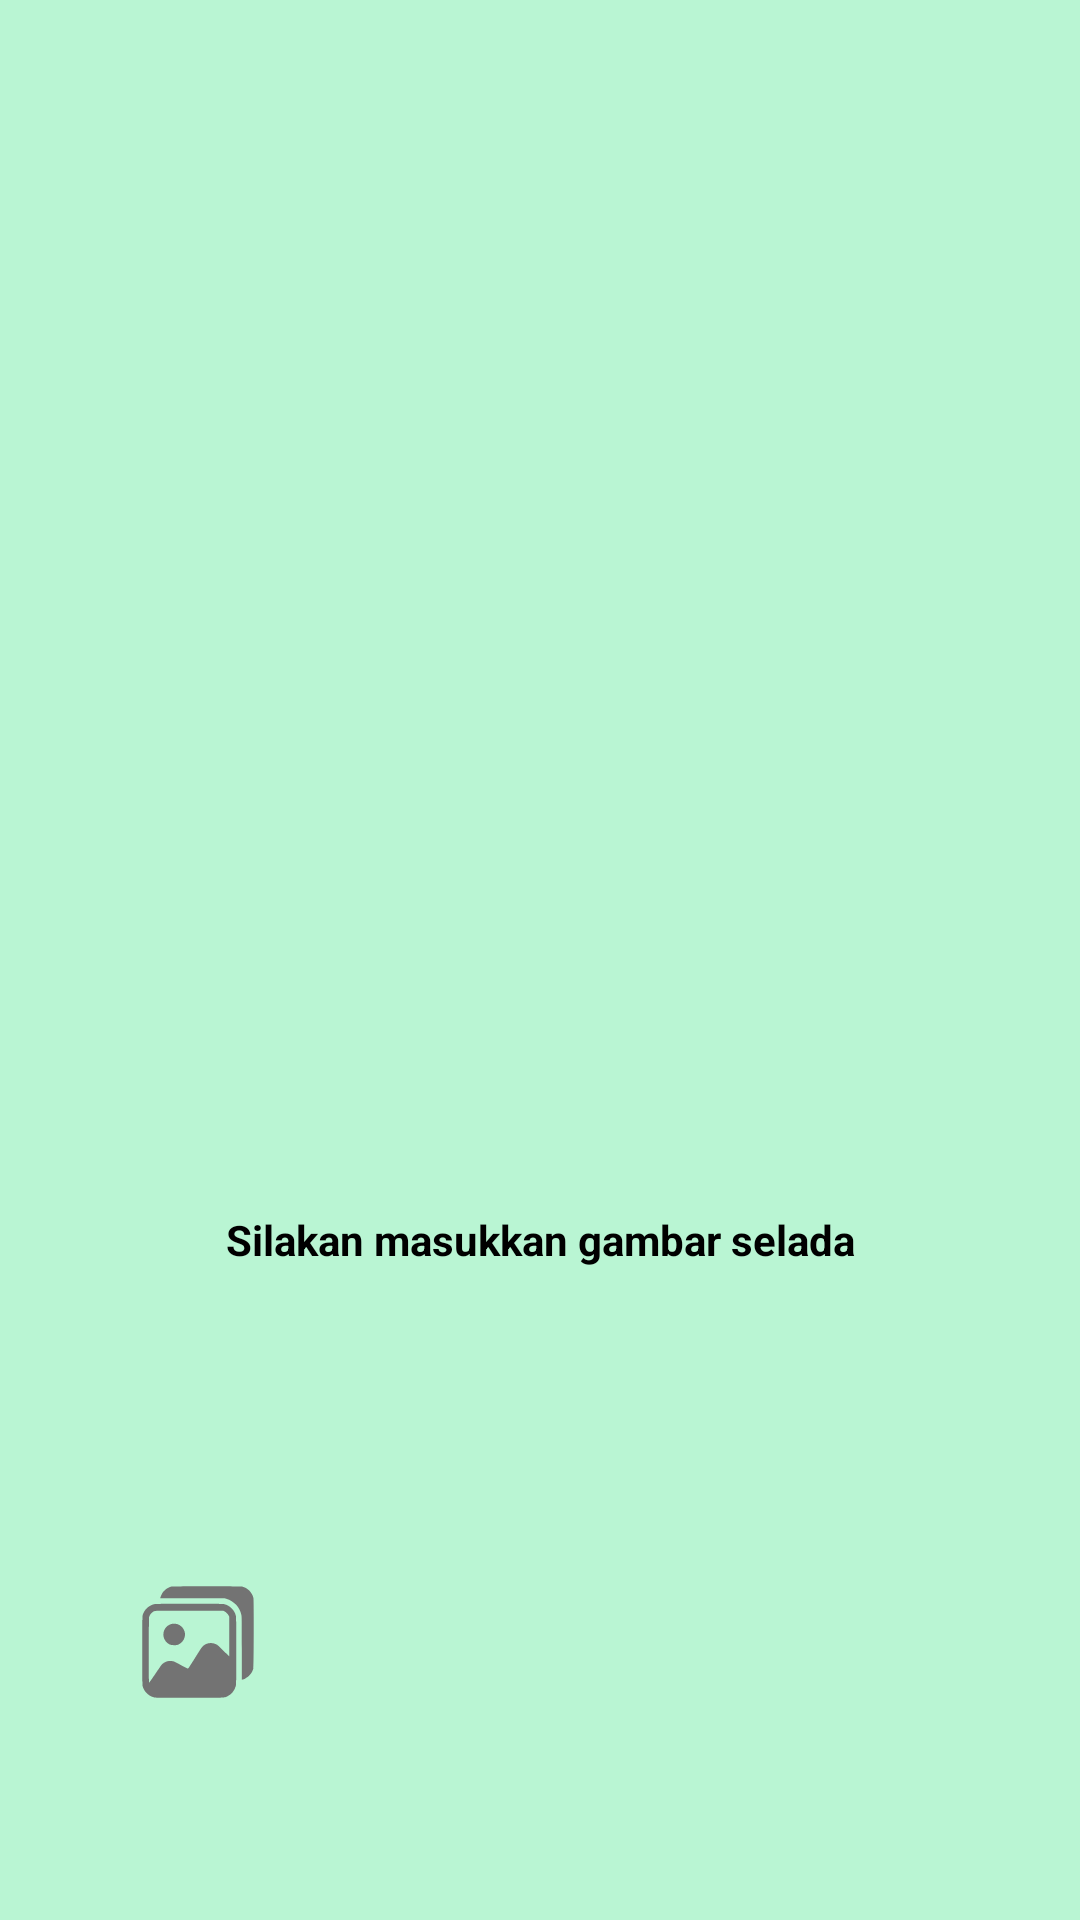

Icons on this 1080 × 1920 Android screen, each with its box as bbox=(x1, y1, x2, y2):
button galery: bbox=(142, 1586, 254, 1698)
